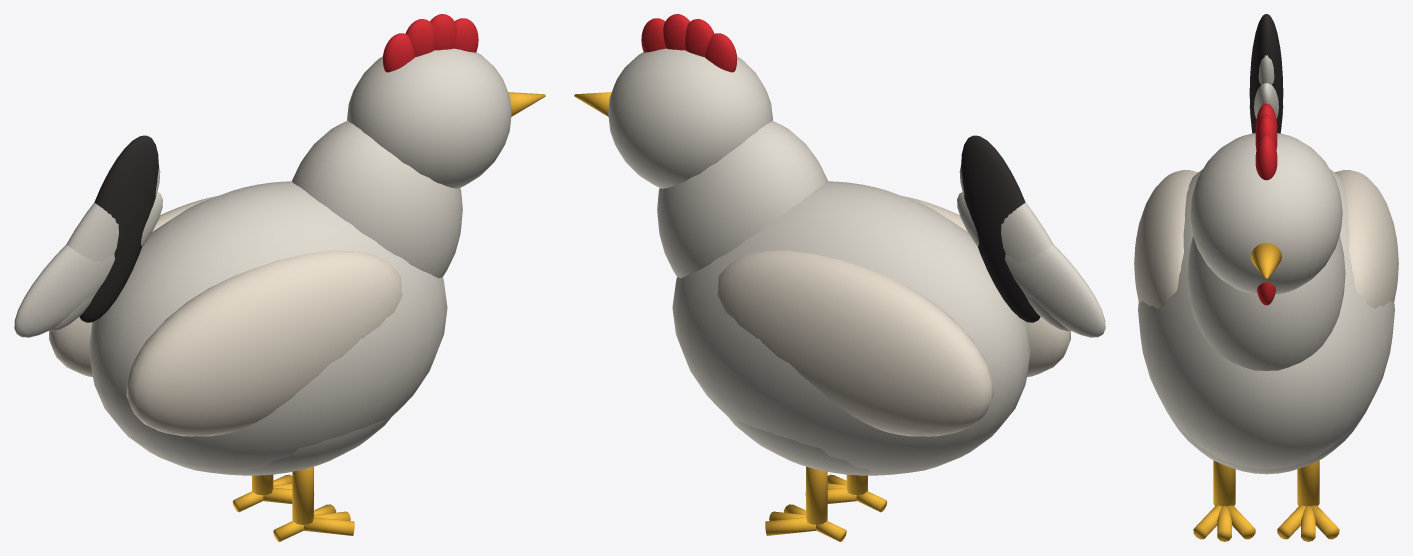
File: gallina.glb
3 renders of one model, left to right at view 1: azimuth 30°, elevation 25°; view 2: azimuth 150°, elevation 25°; view 3: azimuth 270°, elevation 25°, orthographic. The views are drawn at different scales.
Parts seen in each view (by area): view 1: Sphere, Sphere.002, cabeza, cuello, Sphere.004, Sphere.006, pata_d, Sphere.005, Sphere.001, Sphere.003, pata_i; view 2: Sphere, Sphere.003, cabeza, cuello, Sphere.004, Sphere.006, pata_i, Sphere.005, Sphere.001, Sphere.002, pata_d; view 3: Sphere, cabeza, cuello, Sphere.002, Sphere.003, pata_d, pata_i, Sphere.004, Sphere.001, Sphere.006, Sphere.005.
Part boxes in pixels (x1,y1,x2,y2): Sphere: [89, 181, 447, 475]; Sphere.002: [126, 250, 402, 436]; cabeza: [347, 14, 545, 188]; cuello: [292, 120, 462, 278]; Sphere.004: [79, 135, 158, 322]; Sphere.006: [14, 192, 162, 337]; pata_d: [273, 466, 354, 541]; Sphere.005: [49, 166, 160, 331]; Sphere.001: [236, 417, 390, 475]; Sphere.003: [49, 196, 217, 377]; pata_i: [232, 474, 314, 512]; Sphere: [672, 181, 1030, 475]; Sphere.003: [717, 250, 993, 436]; cabeza: [574, 14, 772, 188]; cuello: [657, 120, 827, 278]; Sphere.004: [961, 135, 1040, 322]; Sphere.006: [957, 192, 1105, 337]; pata_i: [765, 466, 846, 541]; Sphere.005: [959, 166, 1070, 331]; Sphere.001: [729, 417, 883, 475]; Sphere.002: [902, 196, 1070, 377]; pata_d: [805, 474, 887, 512]; Sphere: [1138, 169, 1394, 469]; cabeza: [1190, 103, 1342, 305]; cuello: [1187, 236, 1345, 370]; Sphere.002: [1134, 170, 1197, 308]; Sphere.003: [1335, 170, 1398, 308]; pata_d: [1193, 460, 1255, 541]; pata_i: [1277, 460, 1339, 541]; Sphere.004: [1249, 14, 1283, 133]; Sphere.001: [1169, 416, 1363, 474]; Sphere.006: [1249, 83, 1283, 120]; Sphere.005: [1249, 55, 1283, 98].
Size of the model in its own units: 1.81 by 1.53 by 0.7581.
